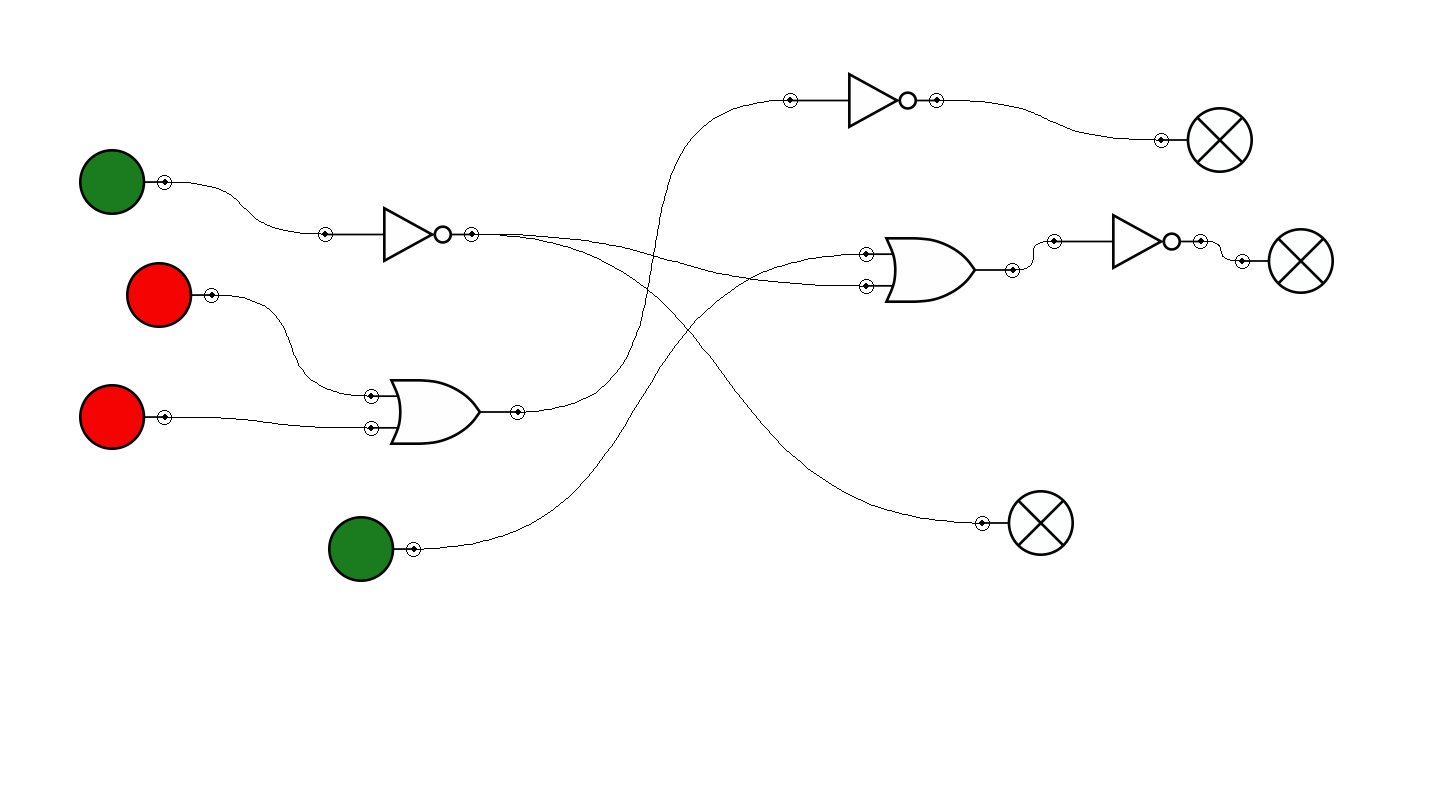bulb: (1154, 107, 1253, 173), (975, 490, 1074, 556), (1235, 228, 1334, 294)
not: (318, 206, 479, 263), (783, 72, 944, 129), (1047, 213, 1208, 270)
or: (859, 237, 1020, 303), (364, 379, 525, 445)
switch_False: (126, 262, 219, 328), (79, 384, 172, 450)
switch_True: (79, 149, 172, 215), (328, 516, 421, 582)
